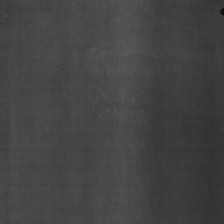punching_hole: (219, 5, 224, 15)
